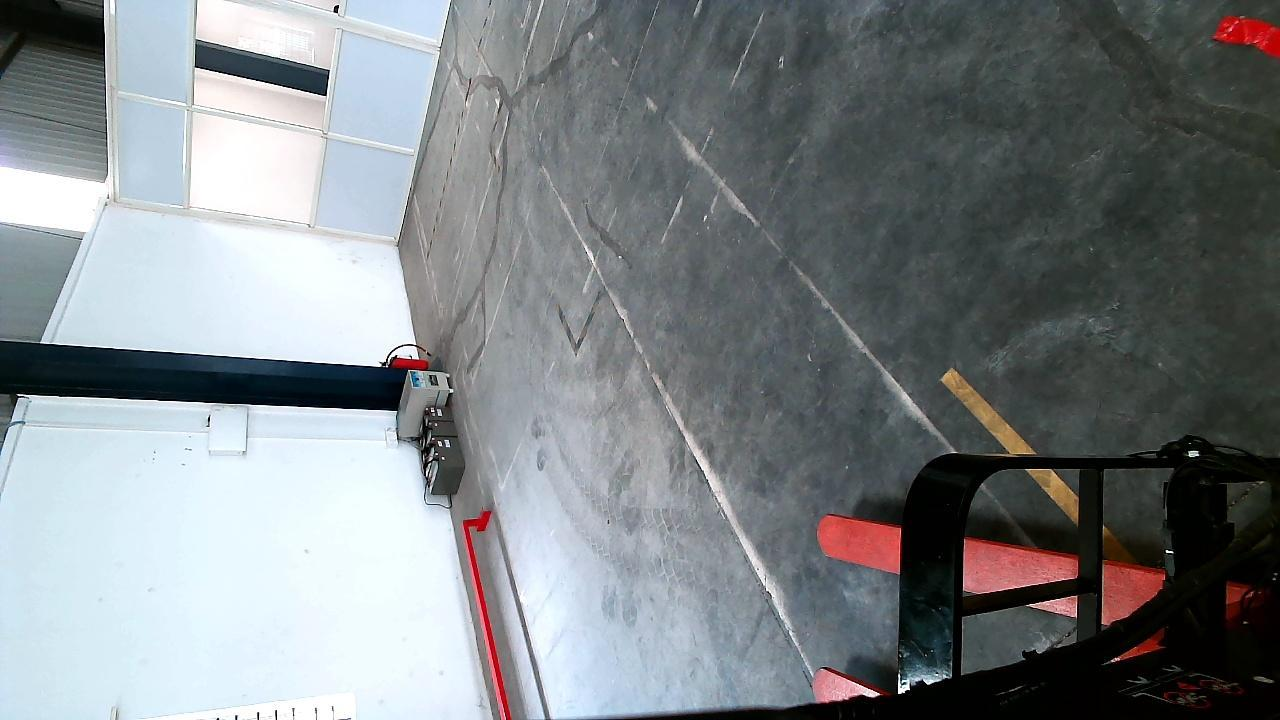yellow_line: (942, 366, 1142, 562)
